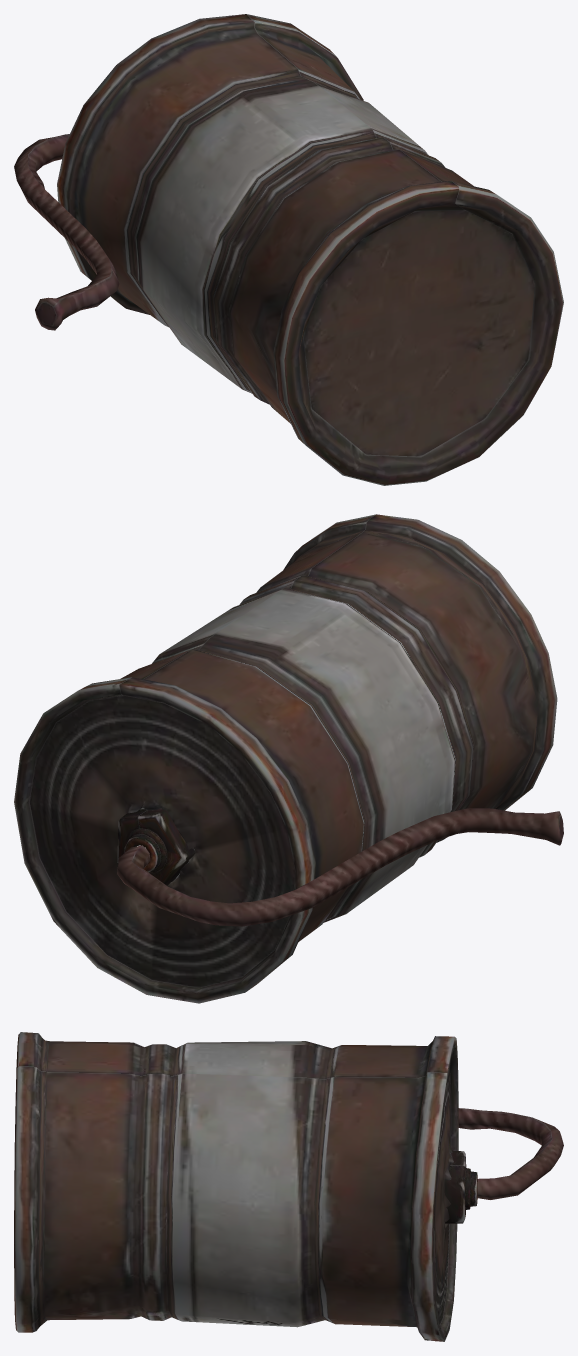
File: grenade.beancan.entity.glb
3 renders of one model, top to bottom at view 1: azimuth 30°, elevation 25°; view 2: azimuth 150°, elevation 25°; view 3: azimuth 270°, elevation 25°, orthographic. The views are drawn at different scales.
Visible parts, largest first — view 1: beancan_Gren_LOD0; view 2: beancan_Gren_LOD0; view 3: beancan_Gren_LOD0.
Boxes of the visible parts, box(x1,y1,x2,y2) form: beancan_Gren_LOD0: box(14, 14, 563, 485); beancan_Gren_LOD0: box(14, 514, 563, 1003); beancan_Gren_LOD0: box(14, 1032, 563, 1341).
Size of the model in its own units: 0.1148 by 0.0756 by 0.1376.
1 material, 1 textured.
